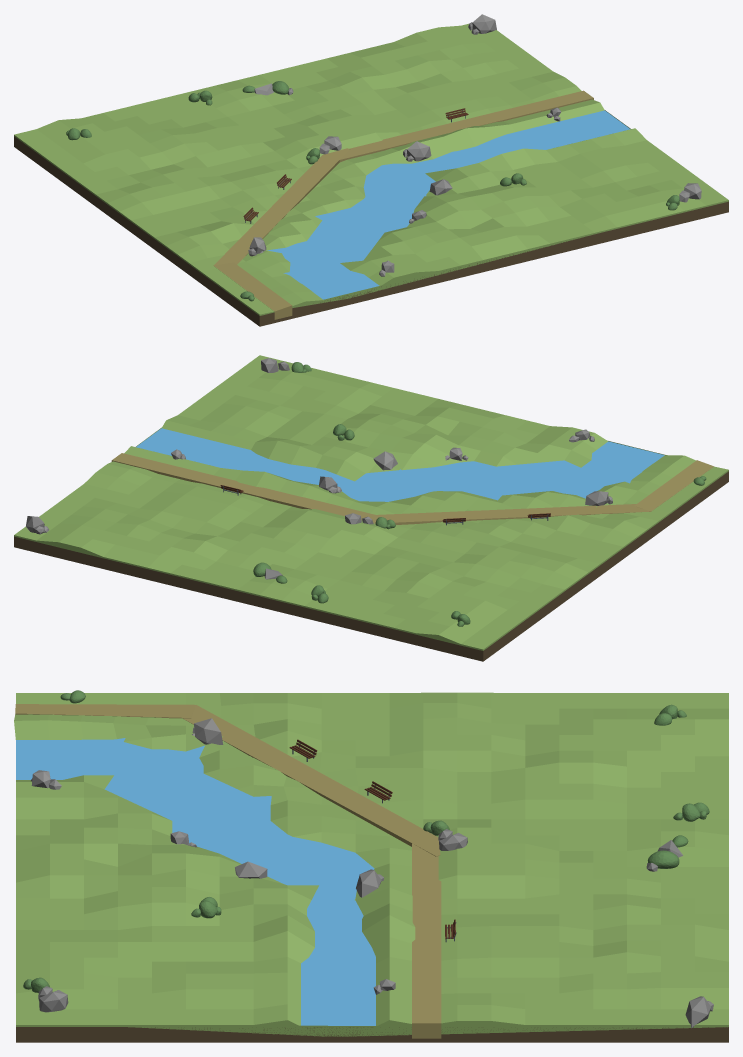
File: park_scene.glb
3 renders of one model, top to bottom at view 1: azimuth 30°, elevation 25°; view 2: azimuth 150°, elevation 25°; view 3: azimuth 270°, elevation 25°, orthographic. The views are drawn at different scales.
Parts seen in each view (by area): view 1: Grass, Water, Dirt, Path, Path.002, Path.001; view 2: Grass, Water, Dirt, Path, Path.002, Path.001; view 3: Grass, Water, Dirt, Path, Path.002, Path.001, Icosphere.053.
Boxes of the visible parts, x1,y1,x2,y2 form: Grass: [14, 23, 728, 315]; Water: [267, 110, 630, 299]; Dirt: [14, 136, 728, 326]; Path: [339, 90, 593, 162]; Path.002: [213, 148, 349, 265]; Path.001: [214, 262, 292, 319]; Grass: [14, 355, 728, 650]; Water: [136, 428, 664, 501]; Dirt: [14, 471, 728, 661]; Path: [111, 453, 375, 515]; Path.002: [361, 504, 650, 524]; Path.001: [634, 460, 713, 511]; Grass: [14, 692, 728, 1036]; Water: [16, 738, 375, 1025]; Dirt: [16, 1027, 728, 1042]; Path: [412, 839, 441, 1038]; Path.002: [183, 705, 440, 856]; Path.001: [15, 704, 195, 718]; Icosphere.053: [194, 718, 223, 744].
Size of the model in its own units: 148 by 8.05 by 134.
